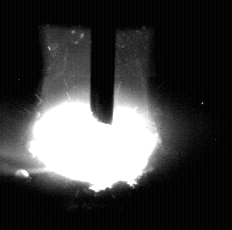arame: (90, 0, 114, 126)
poca: (28, 0, 163, 230)
